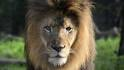lion: (23, 1, 96, 69)
